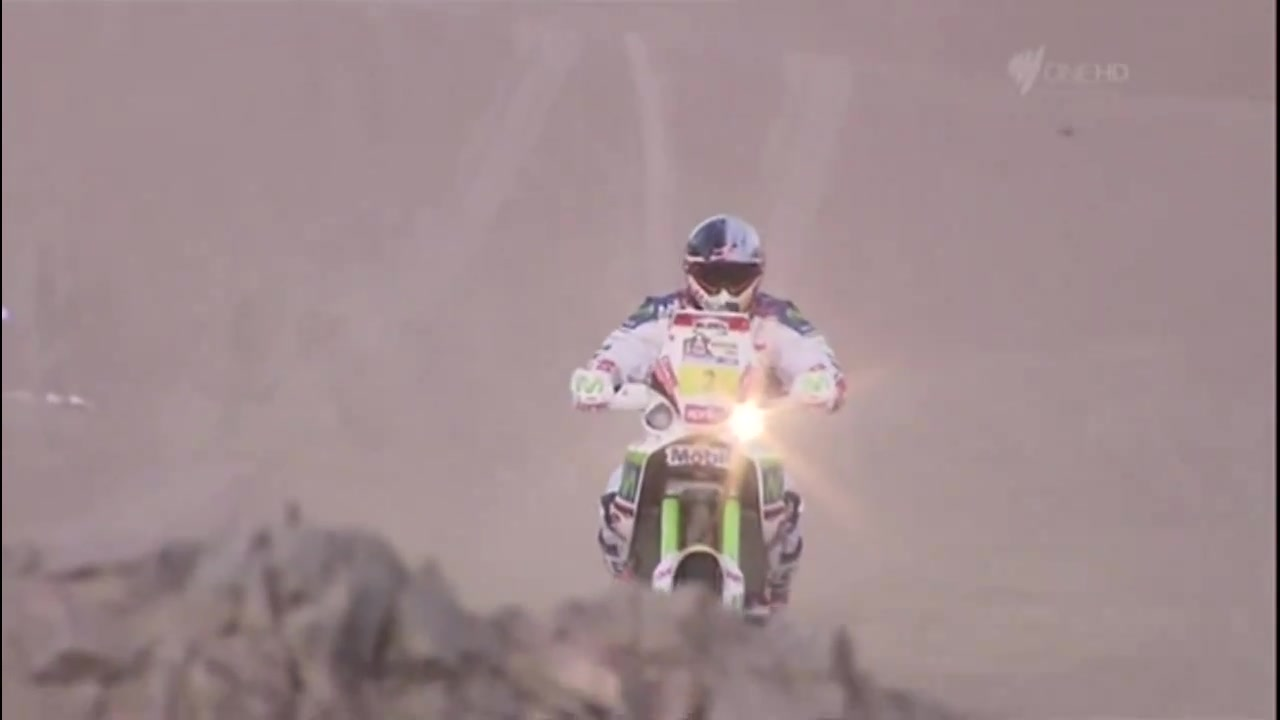motorbike: (571, 305, 844, 629)
